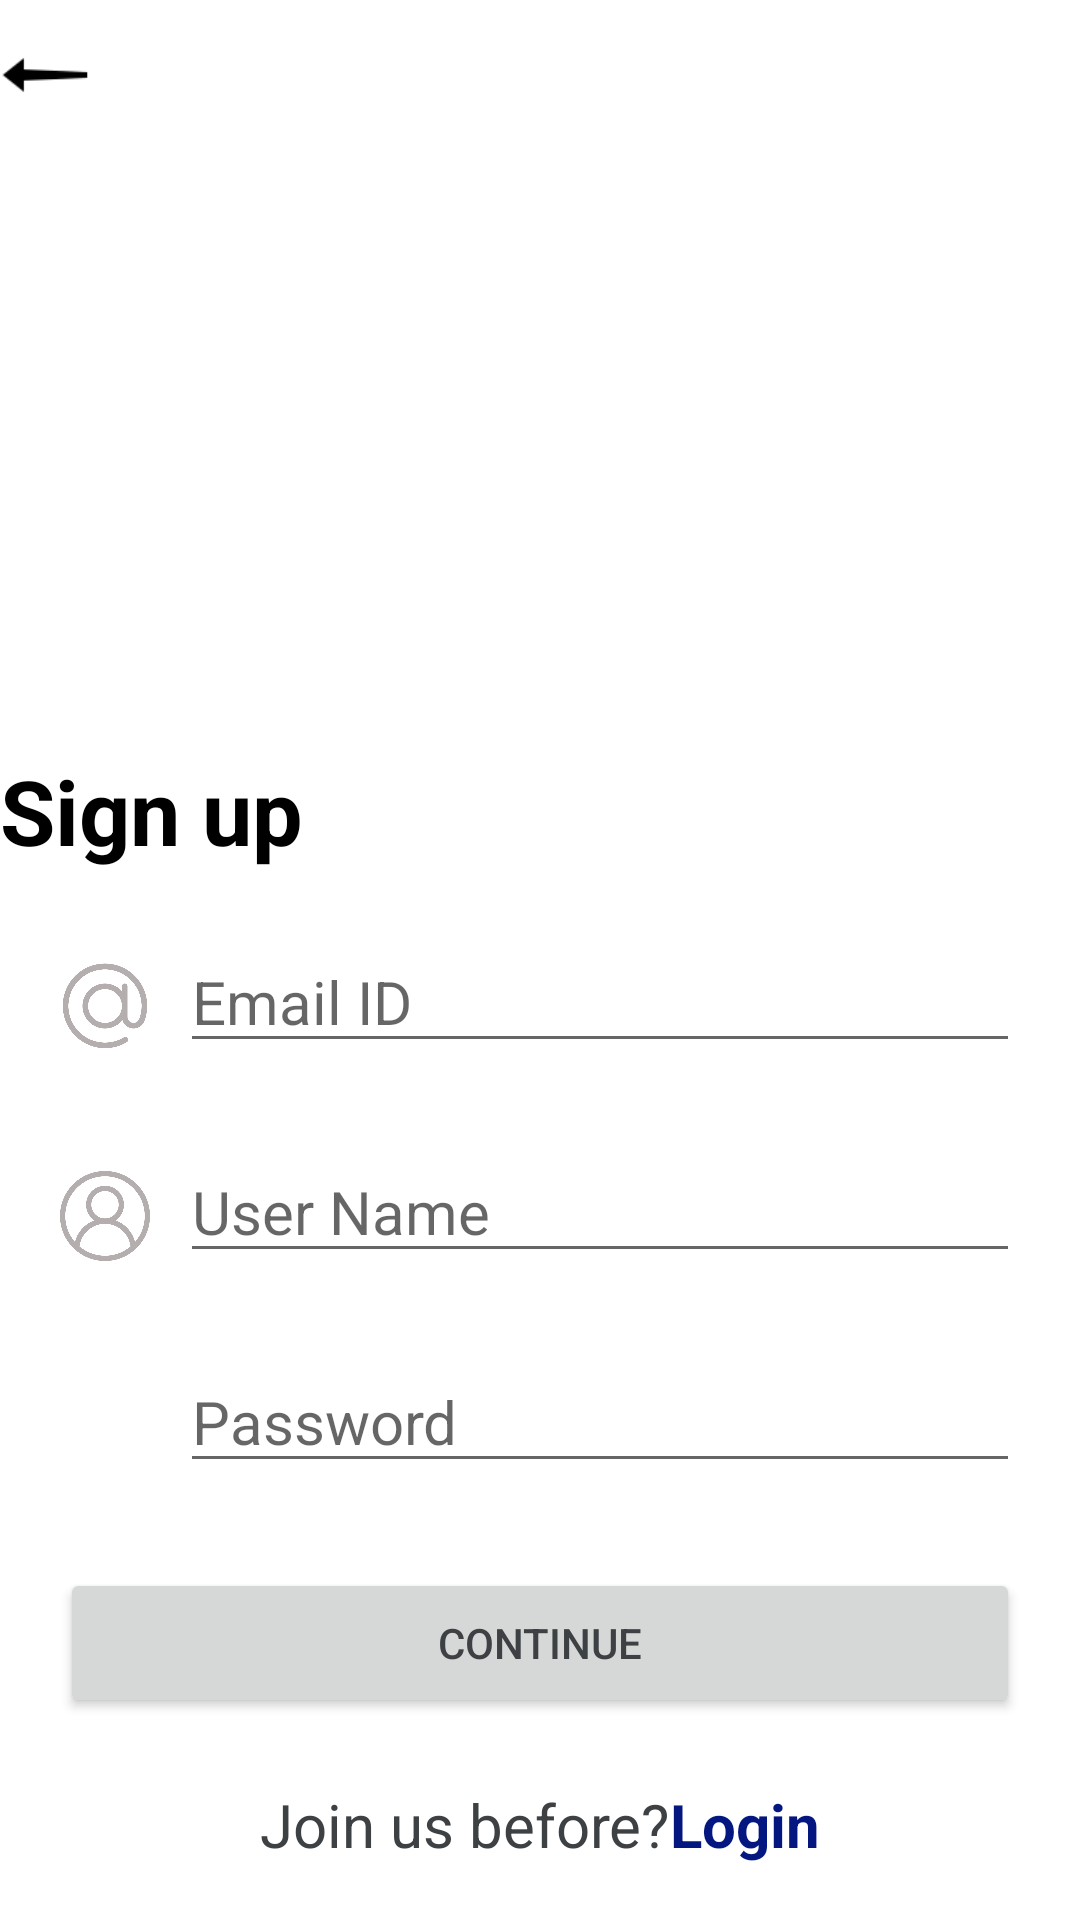

Icon click points for this 1080×1920 phone screenshot, format (x=x, y=y):
arroba: (x=105, y=1005)
arrow: (x=45, y=75)
